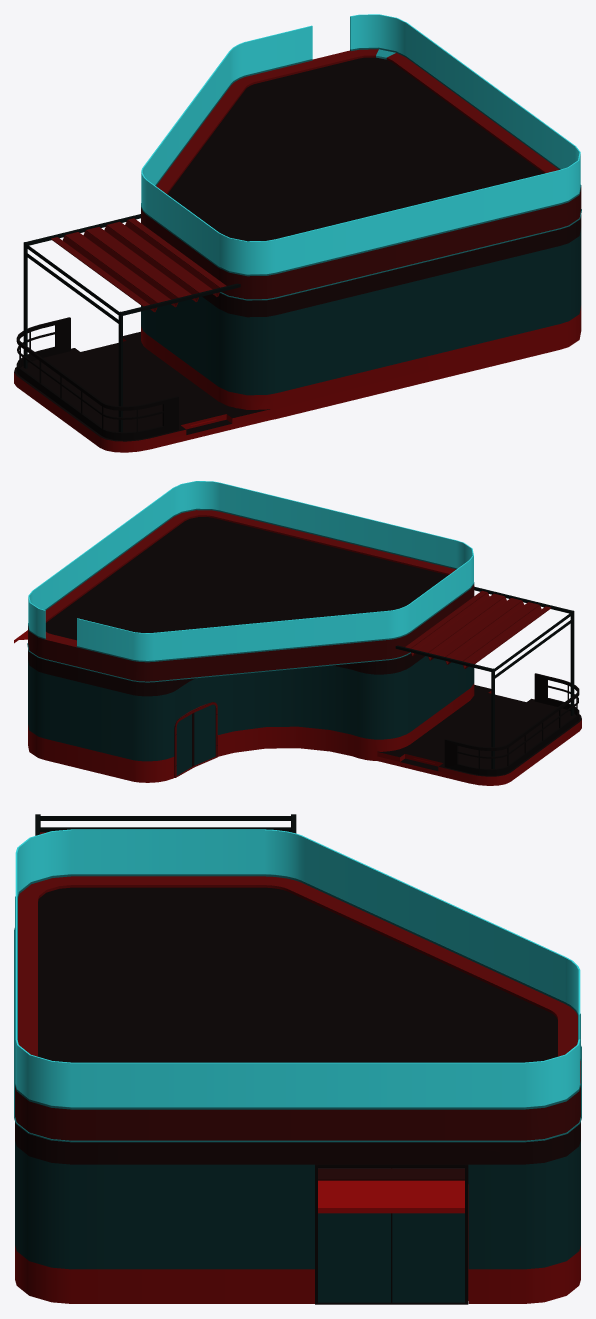
File: Building_Cafe_001_L3.fbx
3 views of the same model, one above another, from view 1: azimuth 30°, elevation 25°; view 2: azimuth 150°, elevation 25°; view 3: azimuth 270°, elevation 25° (orthographic). The views are drawn at different scales.
Parts seen in each view (by area): view 1: Building_Cafe_001_L3; view 2: Building_Cafe_001_L3; view 3: Building_Cafe_001_L3.
Boxes of the visible parts, left/top/right/bottom form: Building_Cafe_001_L3: left=14, top=14, right=581, bottom=452; Building_Cafe_001_L3: left=14, top=481, right=581, bottom=785; Building_Cafe_001_L3: left=14, top=814, right=581, bottom=1304.
Bounding box in the file's own units: 22.37 × 7.27 × 15.57.
